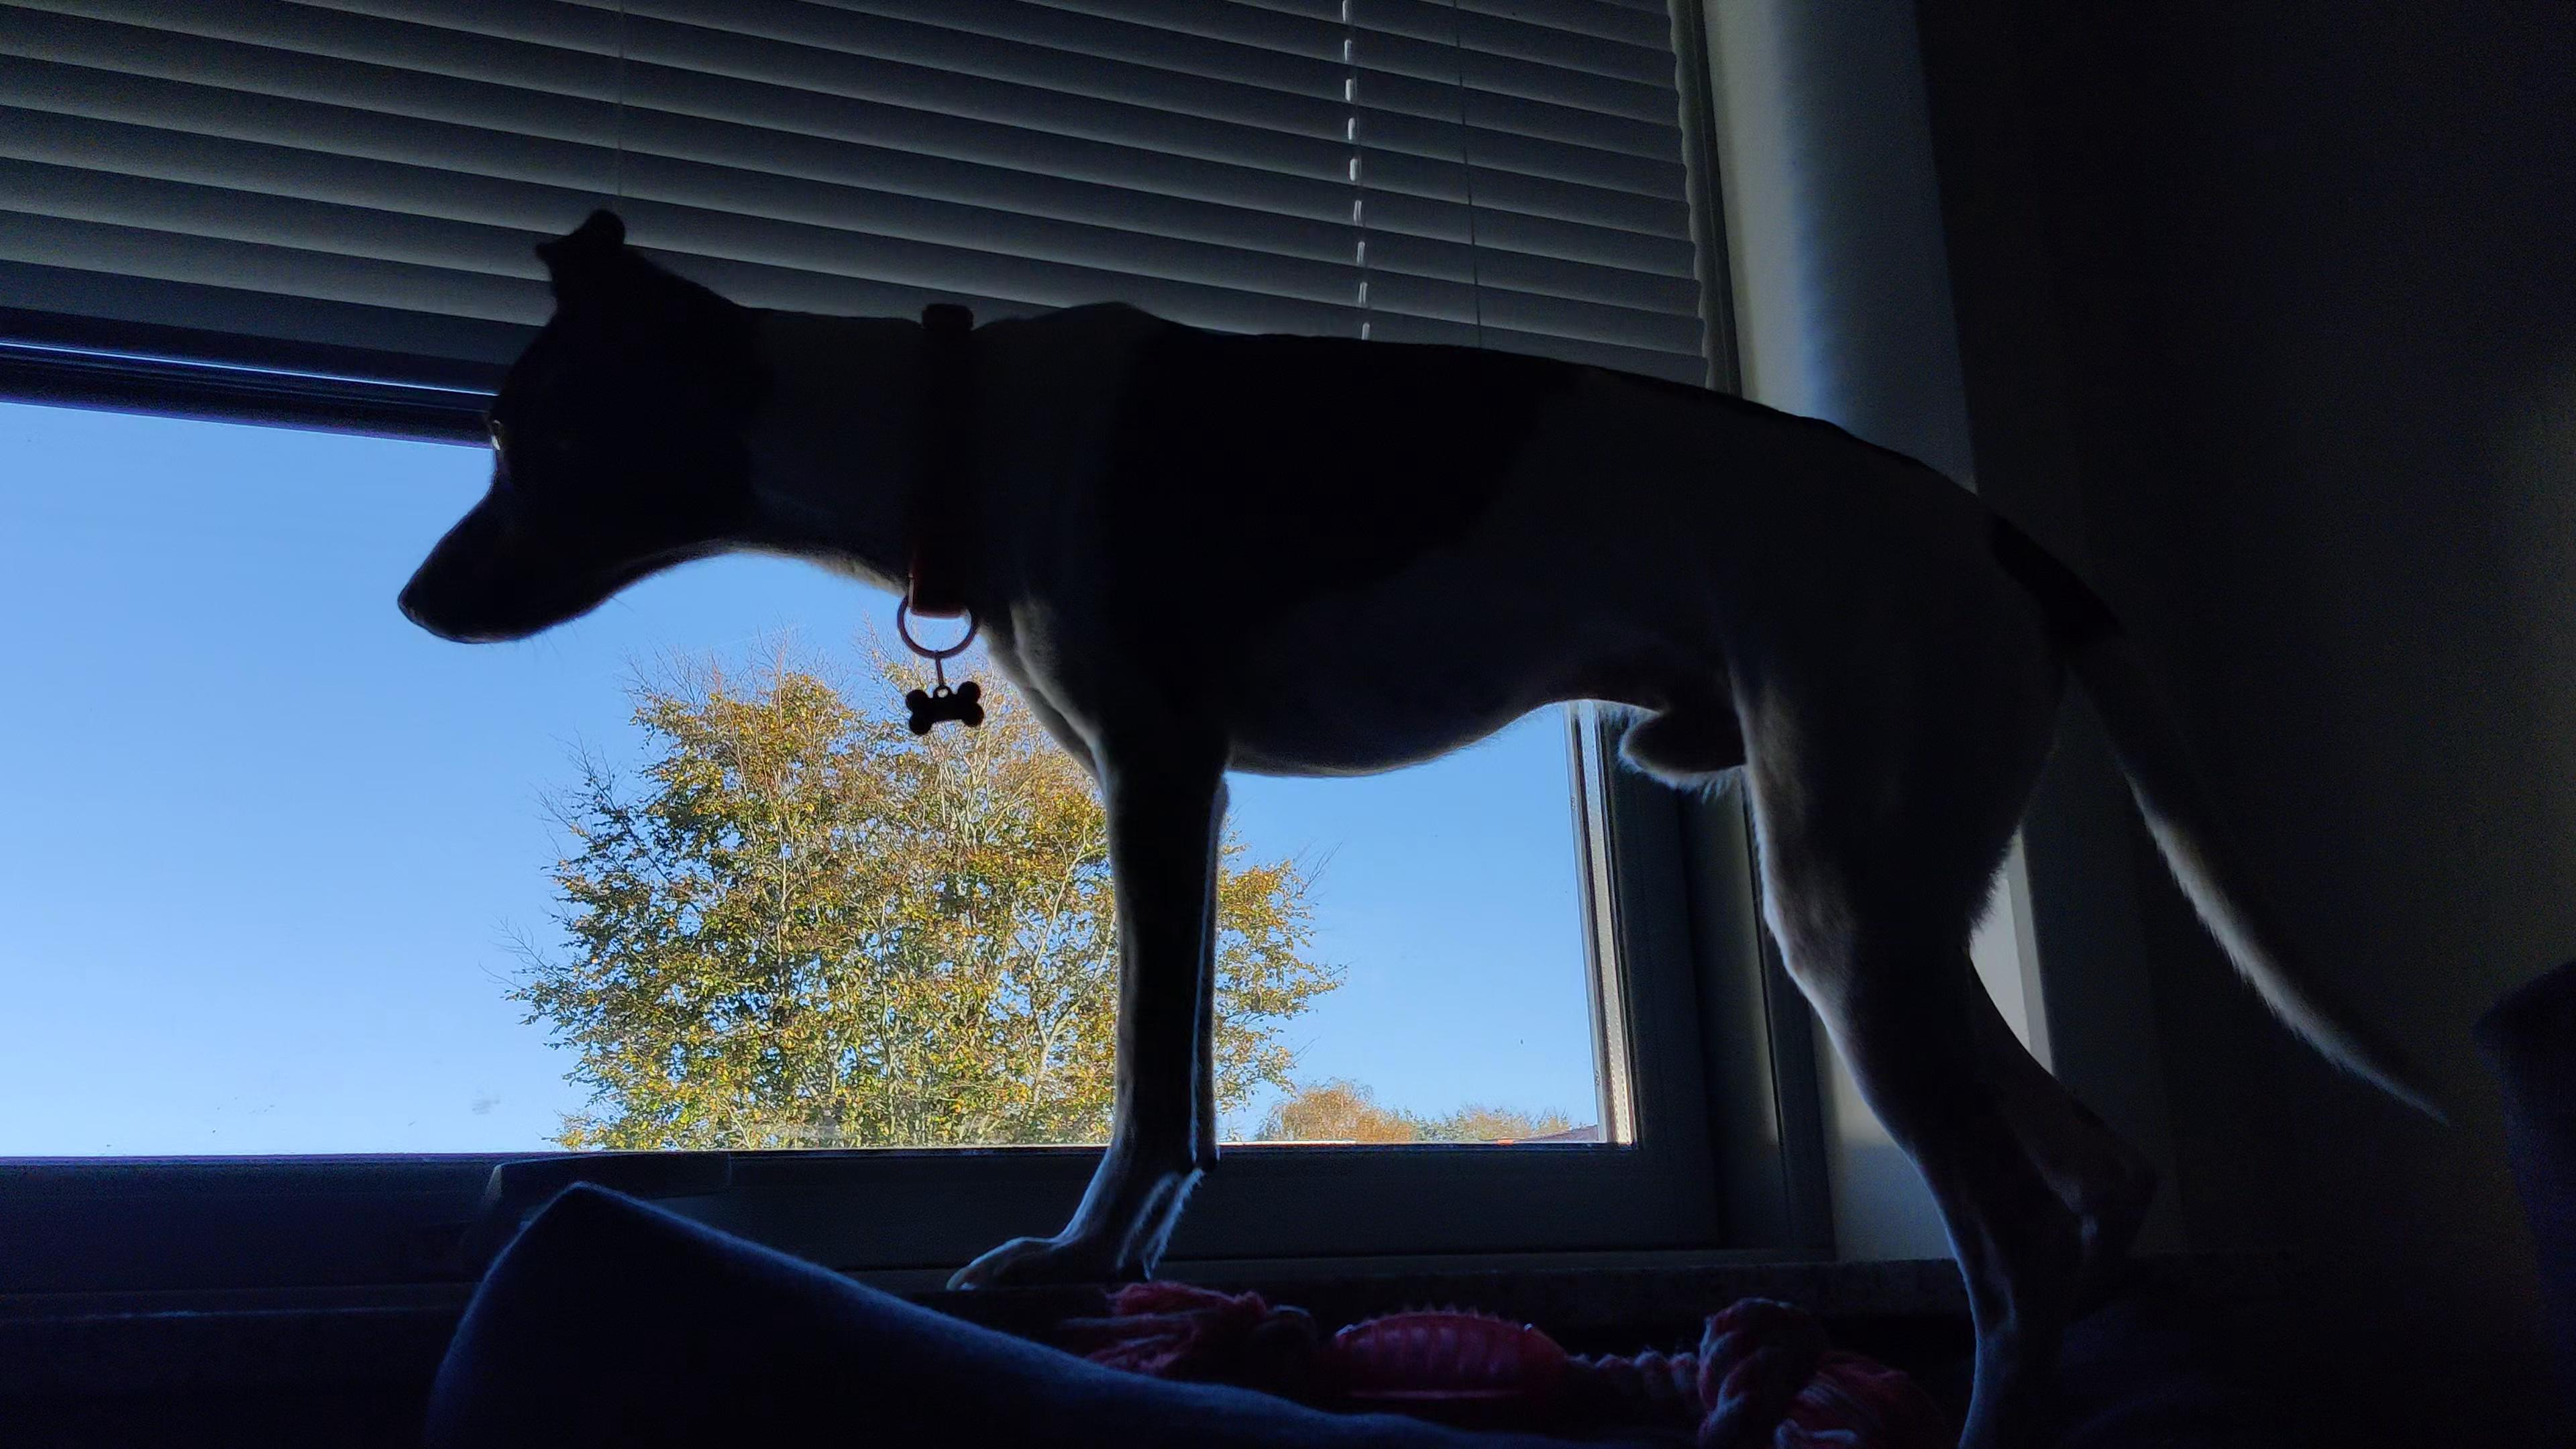Dog: (389, 207, 2457, 1449)
